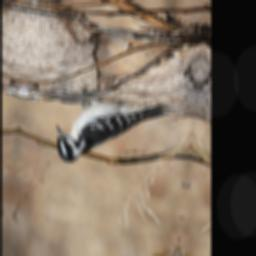Woodpecker: (51, 76, 174, 179)
